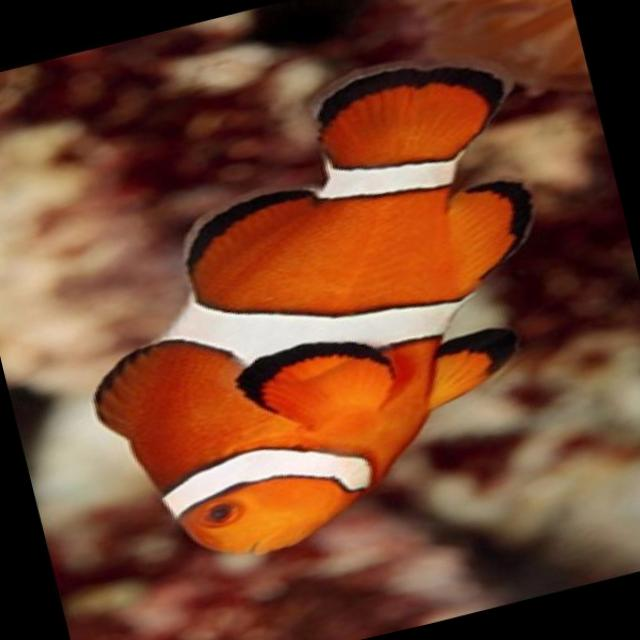ClownFish: (30, 38, 598, 590)
